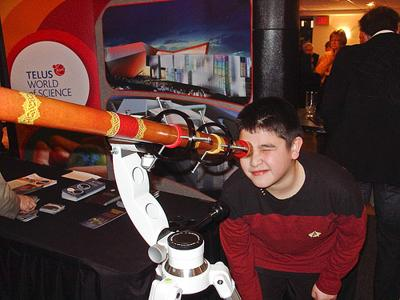person: (216, 97, 370, 300)
